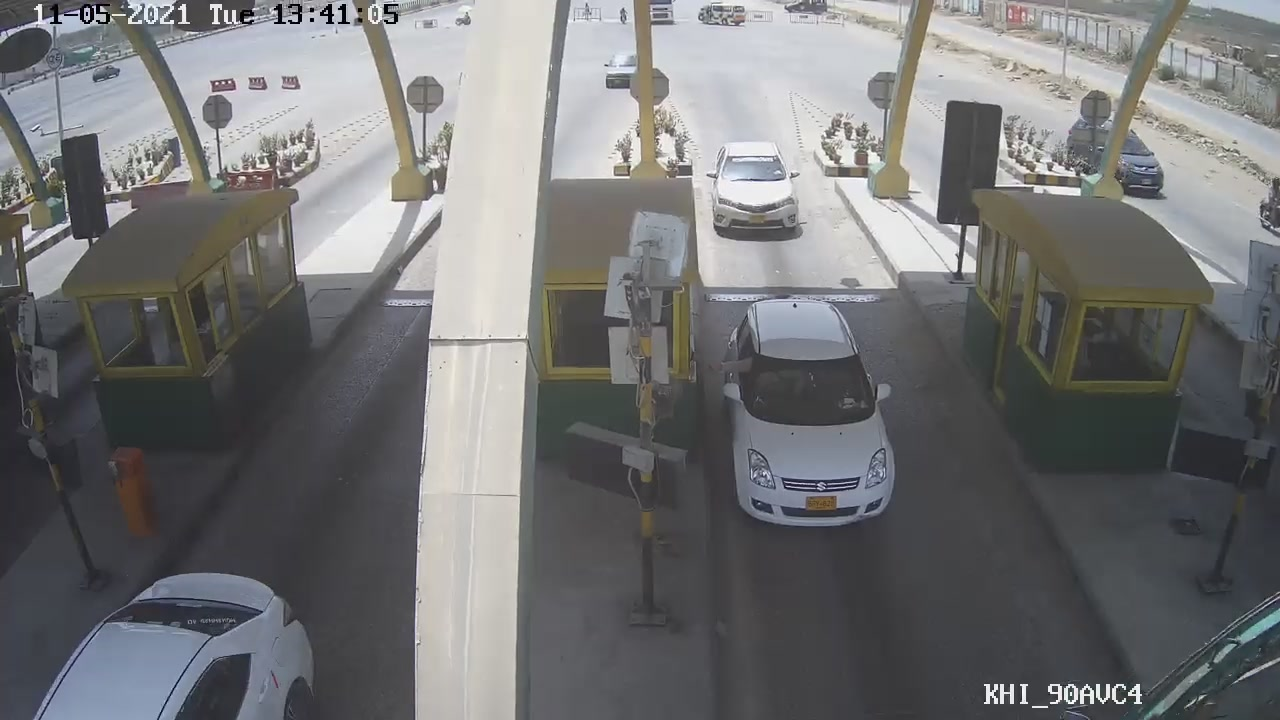F1: (720, 283, 903, 538), (704, 125, 807, 244)
